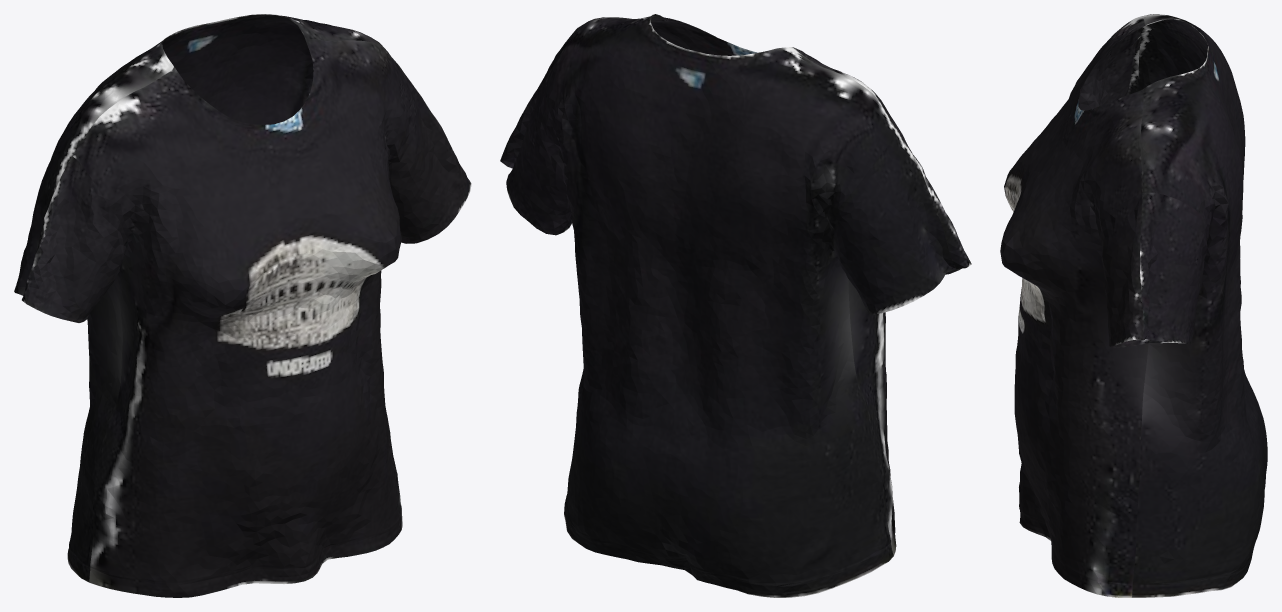
The model's file is shirt.obj.
3 renders of one model, left to right at view 1: azimuth 30°, elevation 25°; view 2: azimuth 150°, elevation 25°; view 3: azimuth 270°, elevation 25°, orthographic. The views are drawn at different scales.
Parts seen in each view (by area): view 1: obj_00000; view 2: obj_00000; view 3: obj_00000.
Boxes of the visible parts, box(x1,y1,x2,y2) form: obj_00000: box(14, 14, 471, 597); obj_00000: box(500, 14, 971, 597); obj_00000: box(1000, 14, 1267, 597).
Bounding box in the file's own units: 0.5937 × 0.634 × 0.3134.
1 material, 1 textured.
